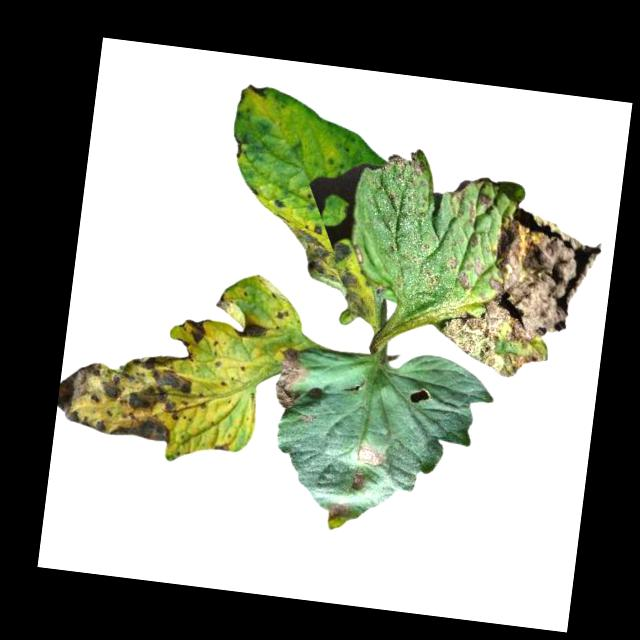Early_blight: (439, 200, 605, 391), (56, 338, 196, 445), (281, 225, 381, 320), (271, 344, 310, 410), (385, 145, 431, 181), (353, 438, 387, 468), (181, 317, 211, 346), (233, 318, 268, 341), (324, 499, 351, 524), (348, 468, 366, 493), (247, 80, 267, 97), (273, 304, 290, 319), (309, 222, 324, 235)
